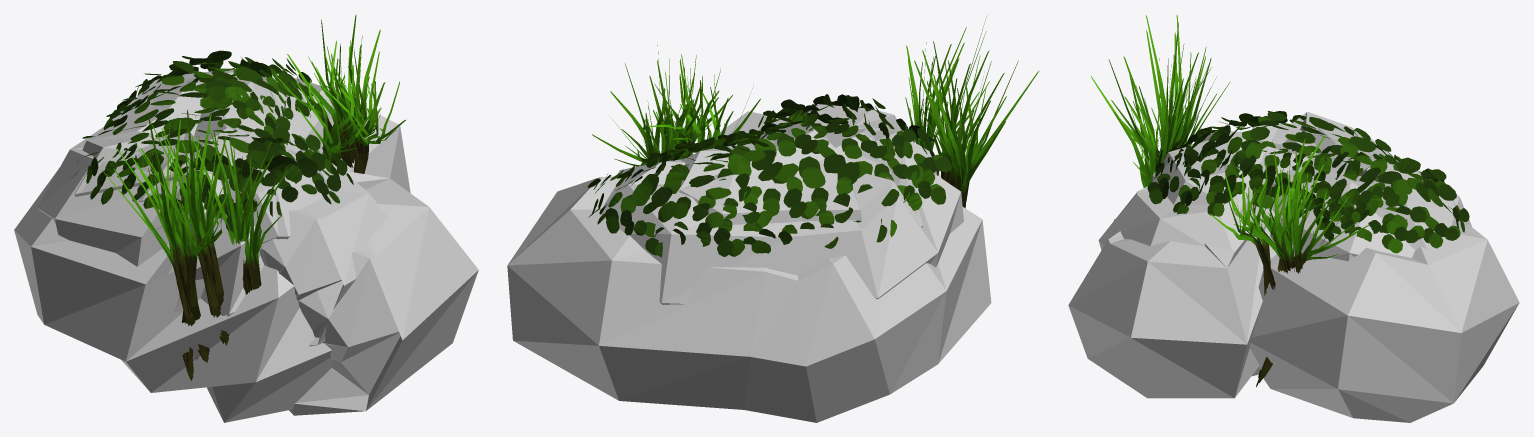
Rendered from Island2.fbx.
3 views of the same model, side by side, from view 1: azimuth 30°, elevation 25°; view 2: azimuth 150°, elevation 25°; view 3: azimuth 270°, elevation 25° (orthographic). The views are drawn at different scales.
Visible parts, largest first — view 1: Base1, Grasslet1, Moss1; view 2: Base1, Moss1, Grasslet1; view 3: Base1, Moss1, Grasslet1.
Part boxes in pixels (left/top/right/bottom): Base1: left=14, top=69, right=478, bottom=422; Grasslet1: left=102, top=15, right=405, bottom=380; Moss1: left=71, top=50, right=353, bottom=231; Base1: left=507, top=104, right=991, bottom=422; Moss1: left=588, top=94, right=951, bottom=257; Grasslet1: left=592, top=16, right=1039, bottom=208; Base1: left=1068, top=111, right=1519, bottom=422; Moss1: left=1147, top=111, right=1469, bottom=253; Grasslet1: left=1091, top=15, right=1369, bottom=386.
Size of the model in its own units: 14.06 by 12.01 by 15.76.
